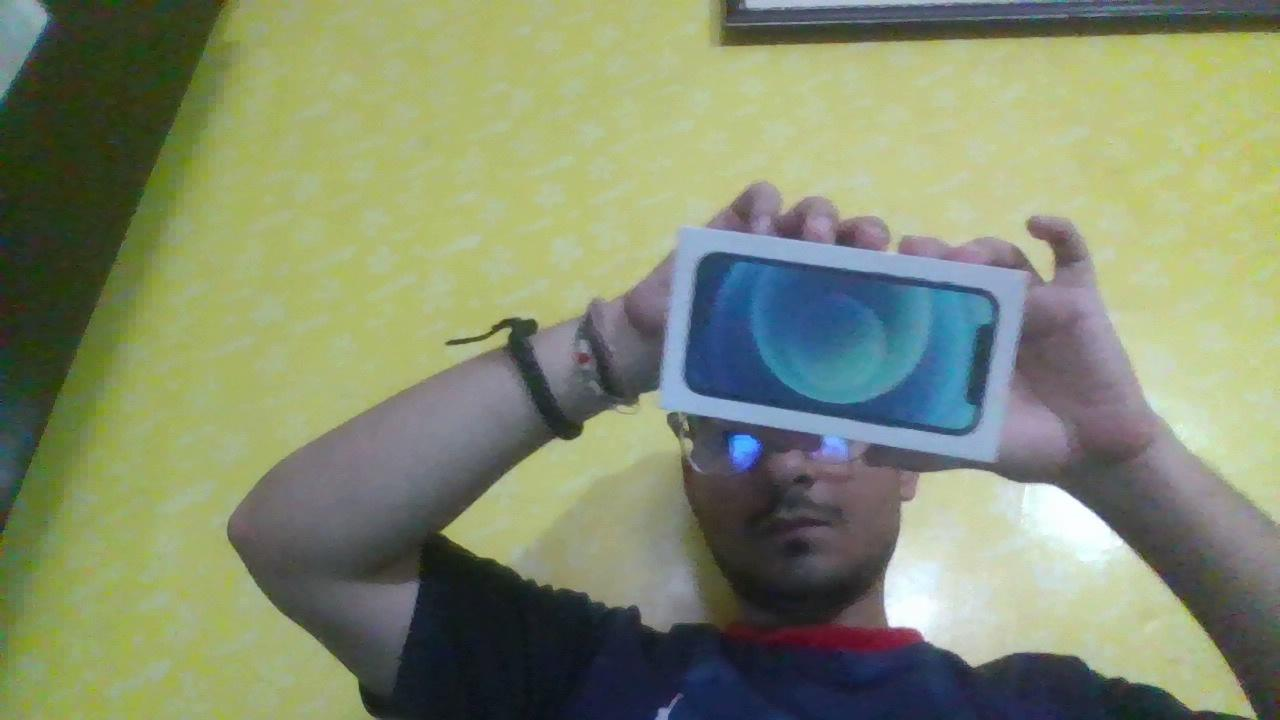Phone: (631, 176, 1074, 539)
